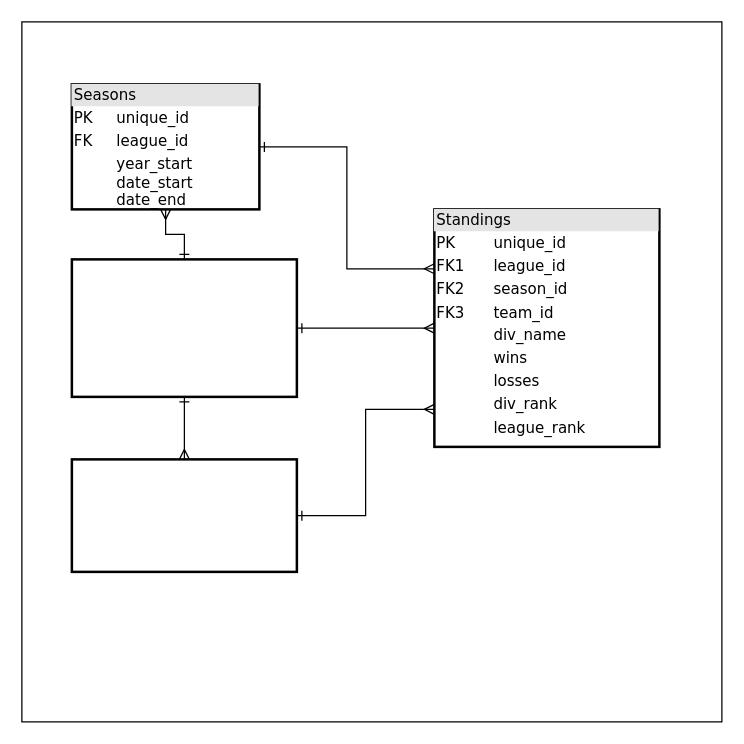
Image size: 744x744. Some labels were removed from this diagram. Here are the shapes that lost their labels. From the top down, the centre of each, then its label:
At (184,328): "Leagues PK unique_id league_name total_teams month_season_start month_season_end".
At (184,515): "Teams PK unique_id FK league_id team_name".
